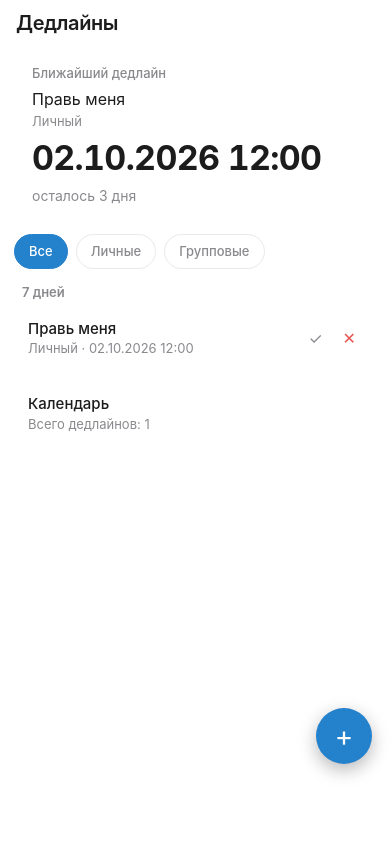
DeadlinesScreen: действия из списка › тап по строке открывает форму редактирования с предзаполнением
Expected: the element with test id "cell-9" is shown, [14,308,376,369]
Click the text "Правь меня".
click(72, 328)  # box [28,319,116,338]
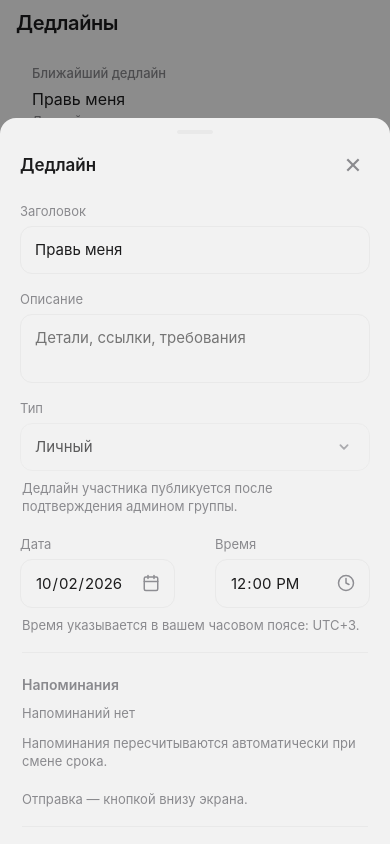
Expected: the field with test id "field-title" holds "Правь меня", [20,226,370,274]
Expected: the date field with test id "field-date" holds "2026-10-02", [20,558,175,608]
Expected: the time field with test id "field-time" holds "12:00", [215,558,370,608]
